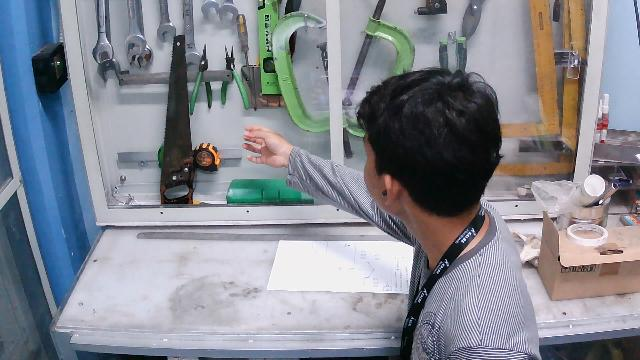tang_cucut_lancip_1: (213, 39, 254, 116)
